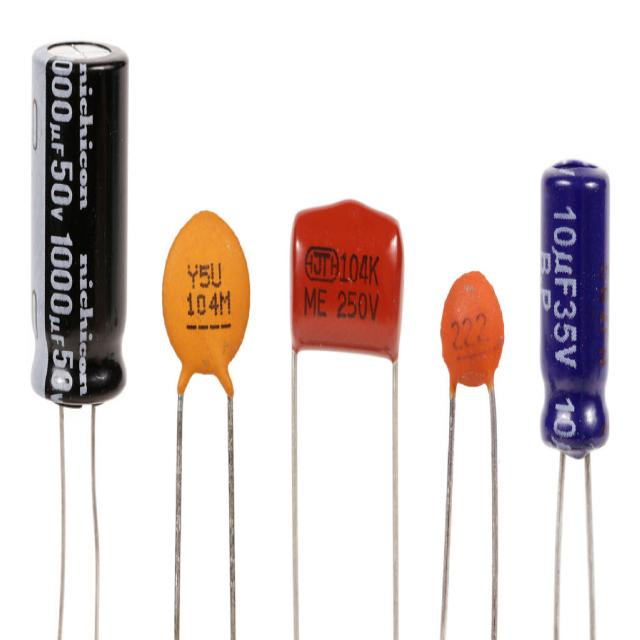Capacitor: (31, 43, 128, 639), (291, 201, 404, 638), (162, 210, 250, 639), (541, 160, 609, 639), (440, 271, 504, 639)
